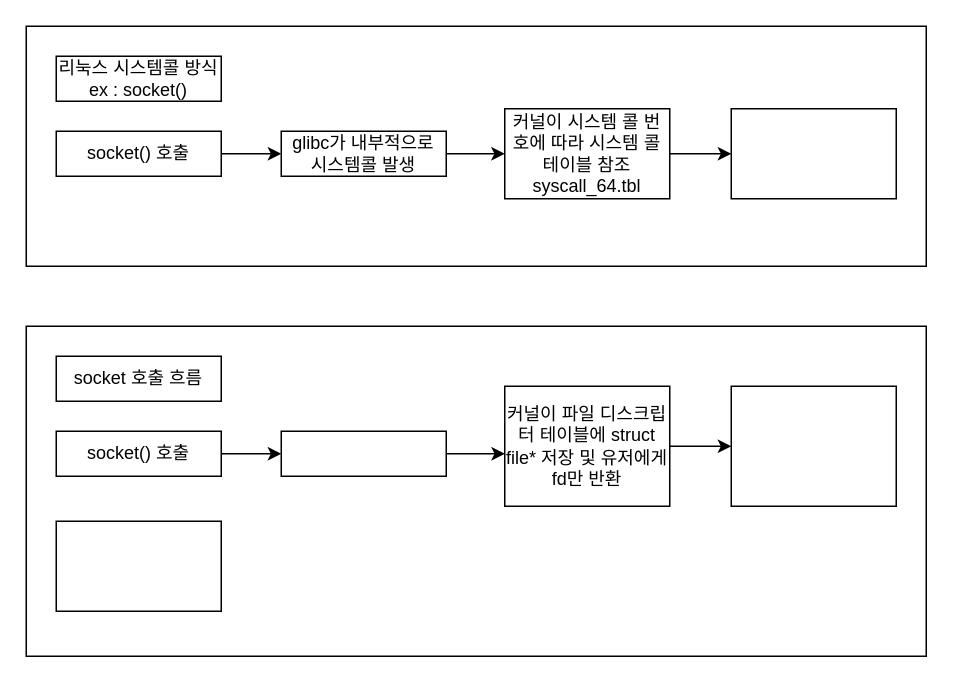
This 953x683 diagram has some shape labels left out. Each missing label, with the box of its shape:
* 리눅스 커널은 각 프로세스 마다 파일 디스크립터 테이블이 있음: (55, 520, 221, 611)
시스템 콜 테이블에서 sys_scoetk() 주소를 찾아 호출: (730, 107, 896, 199)
유저가 fd로 테이블에 접근하면, fd 테이블에서 struct file* 접근 및 file->private_data를 통해 socket* 접근: (730, 385, 896, 506)
커널이 struct socket, struct file 생성: (280, 430, 446, 476)
